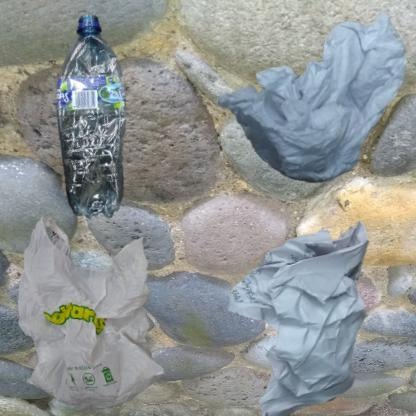bolsa: (10, 213, 177, 416)
botella: (10, 10, 216, 275)
papel: (213, 213, 416, 416), (213, 10, 412, 187)
